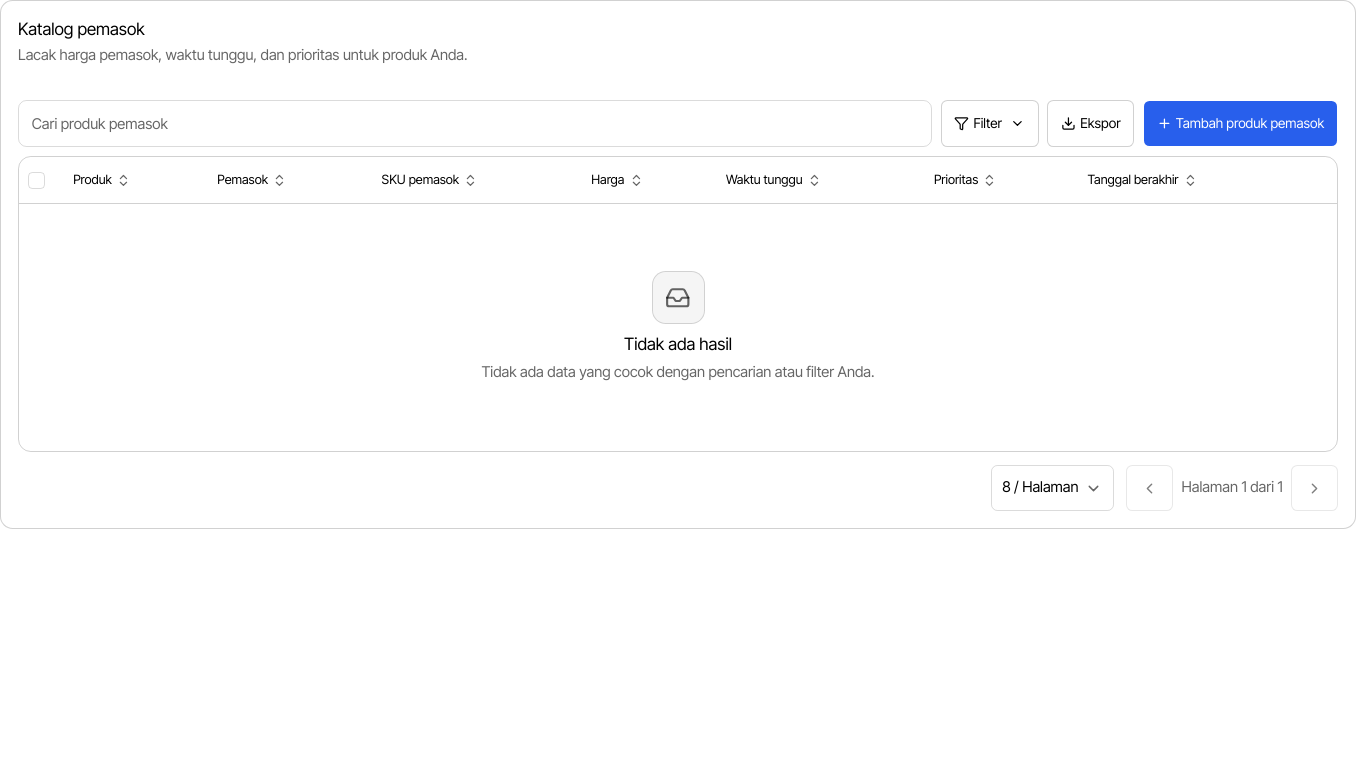
SupplierCatalogSection branches2 › shows create title branch for the new dialog
Step 1. Click the button "Tambah produk pemasok" → (1240, 124), box [1143,100,1338,147]
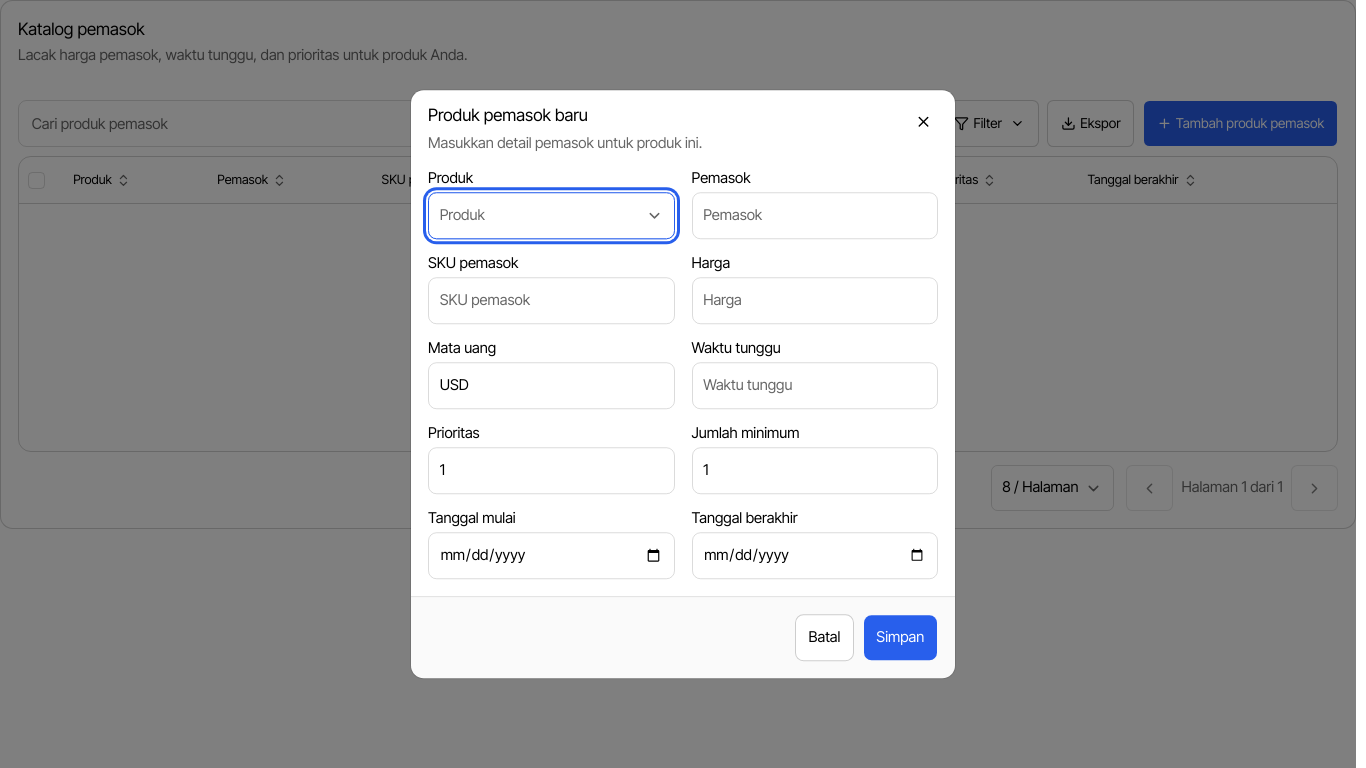
expect the heading "Produk pemasok baru" is shown: met, box [428,105,588,125]
